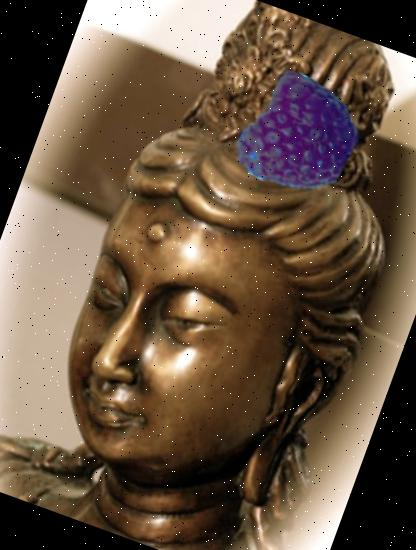Raspberry: (227, 64, 372, 210)
